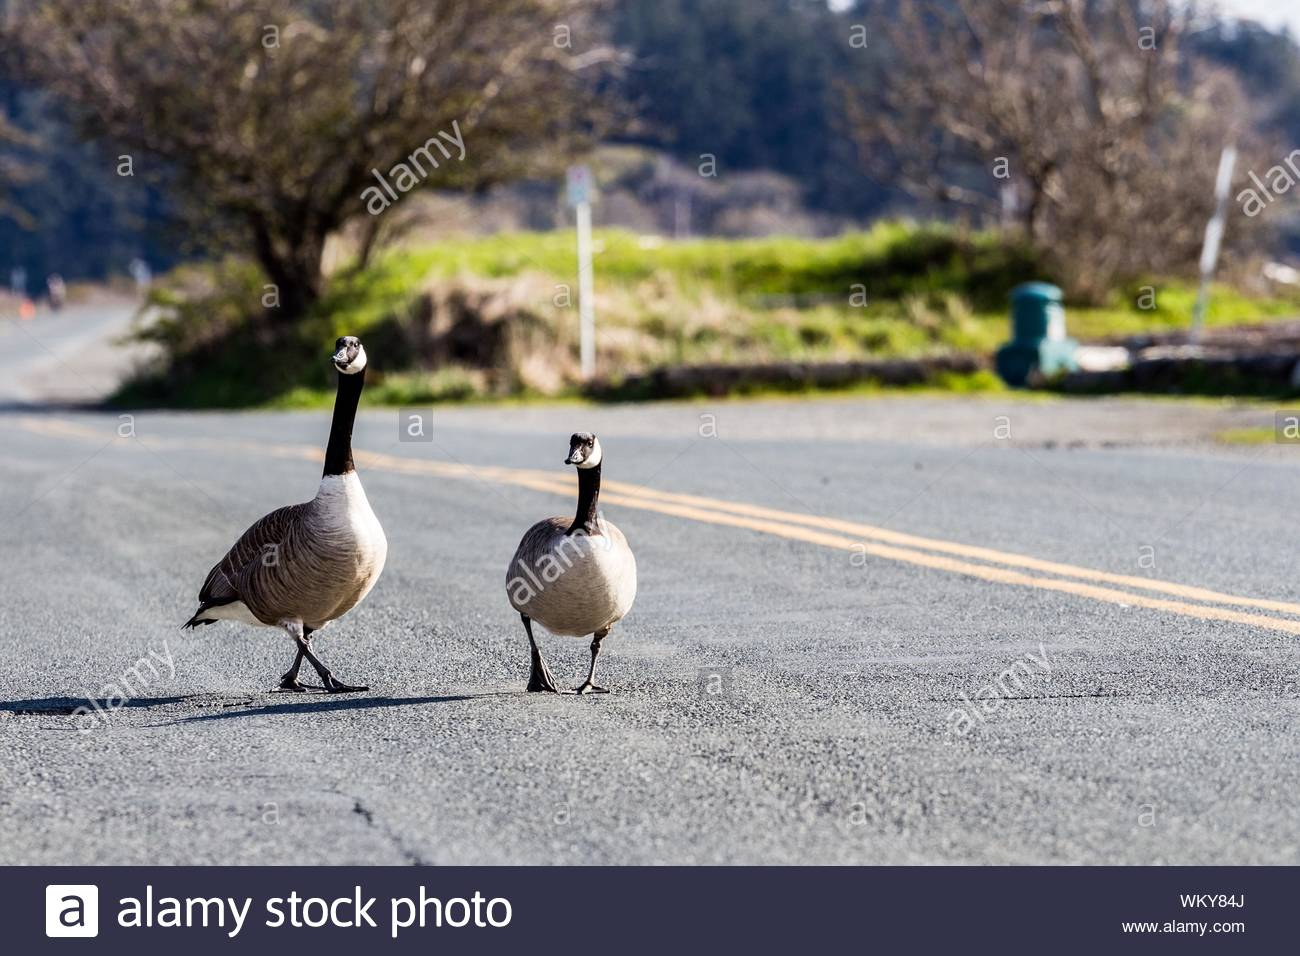goose: (176, 333, 395, 693), (497, 429, 649, 708)
